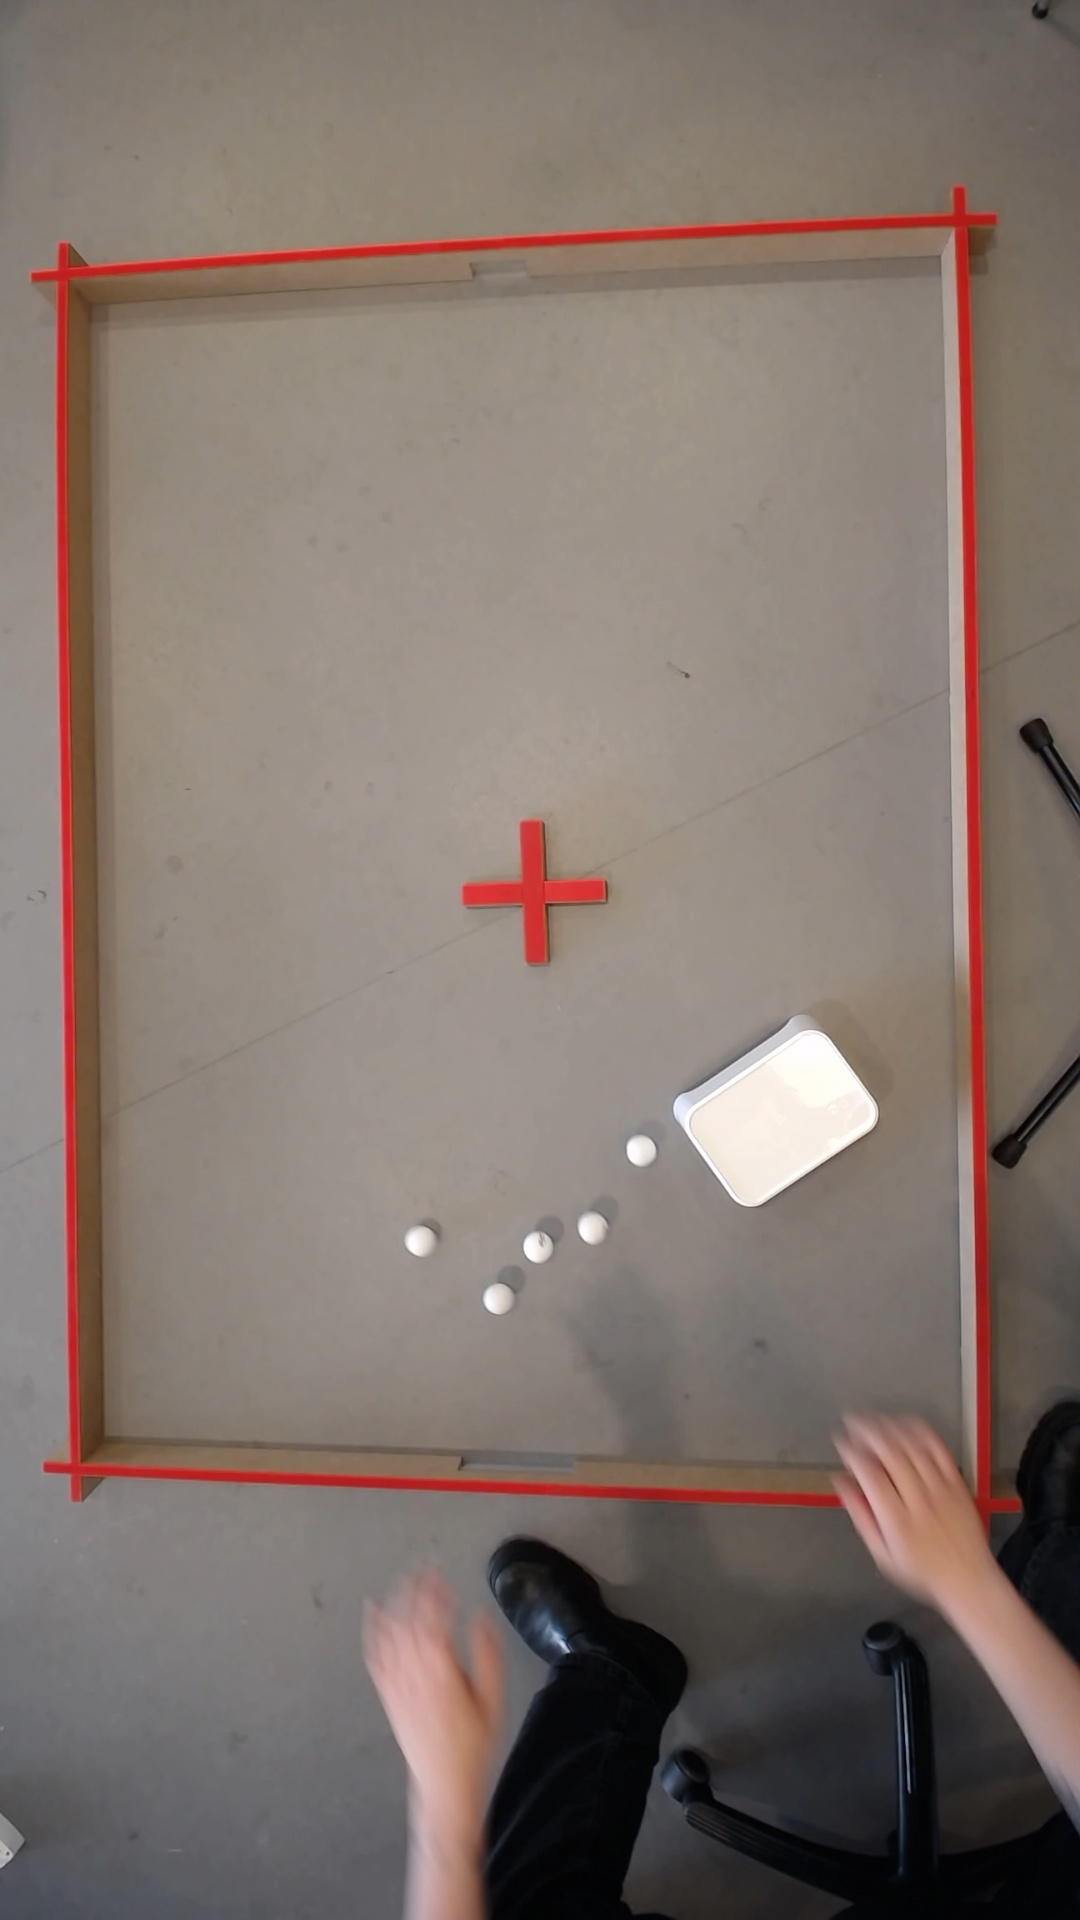balls: (665, 1005, 886, 1216), (375, 1646, 467, 1861), (932, 1582, 1023, 1688), (851, 1460, 911, 1571), (621, 1130, 659, 1167), (398, 1220, 435, 1258), (571, 1208, 608, 1246), (514, 1229, 553, 1266), (477, 1280, 510, 1315)
car: (861, 1528, 891, 1563)
